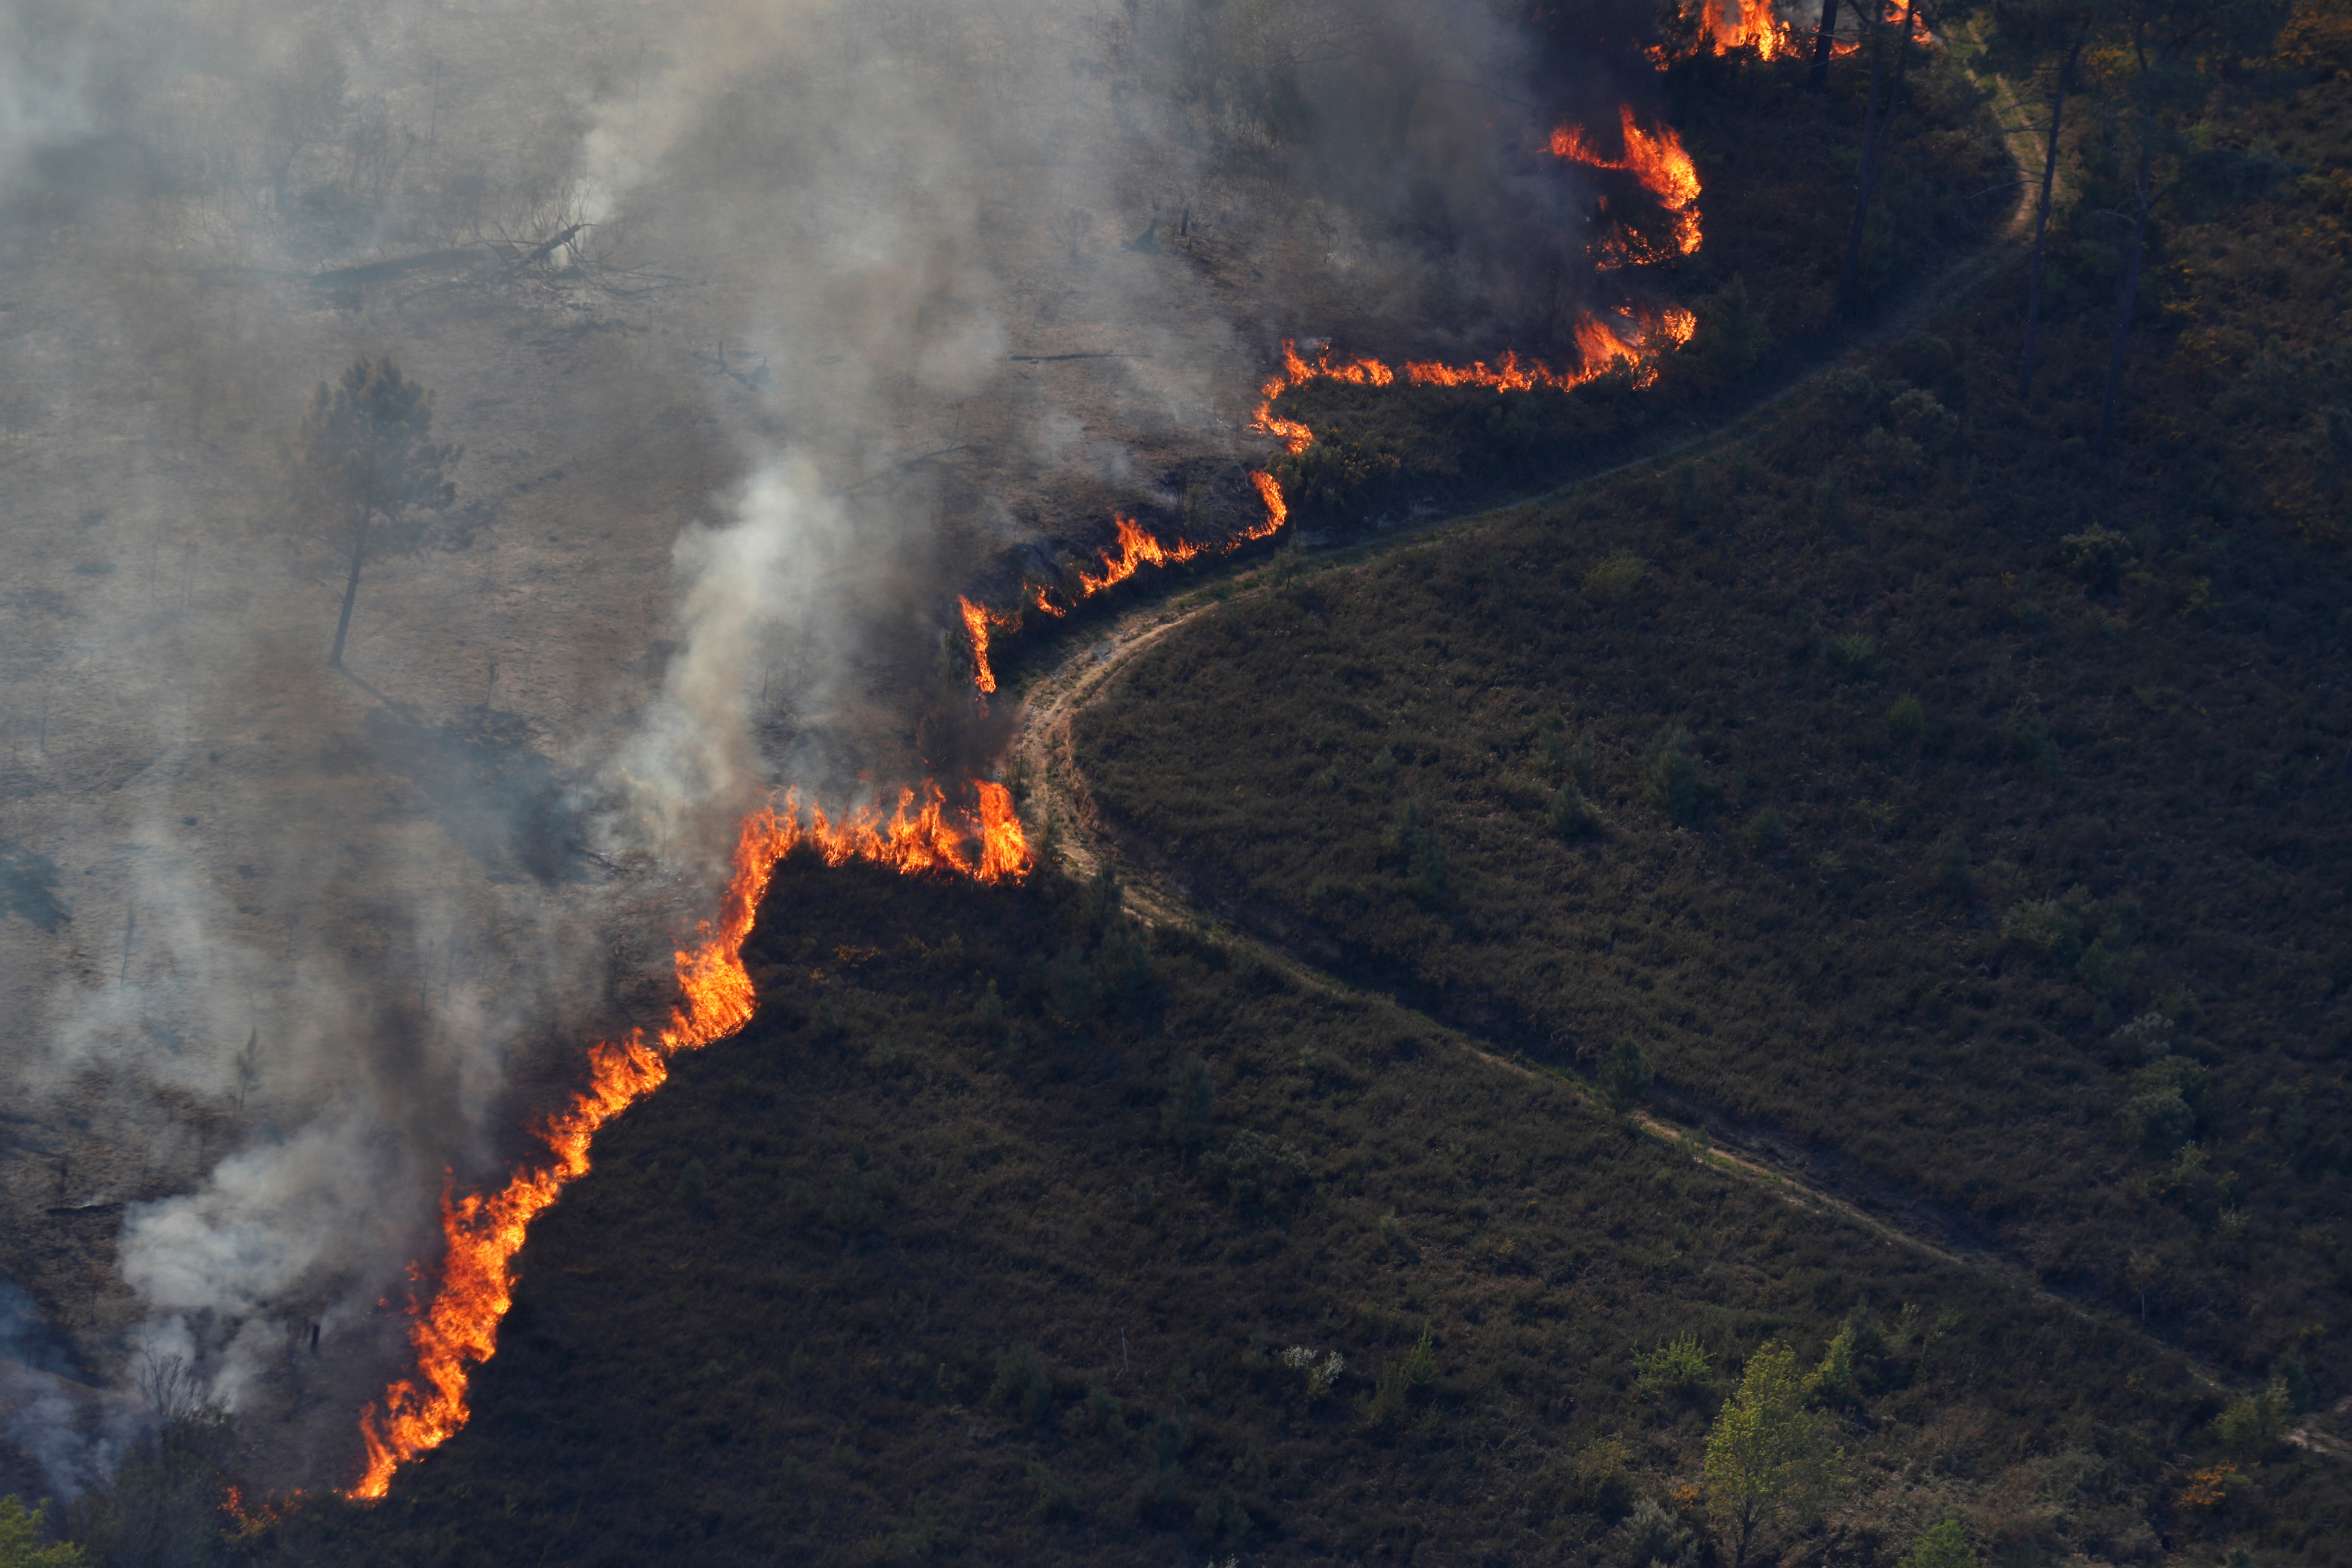fire: (234, 772, 1045, 1543), (929, 290, 1713, 724), (1522, 112, 1732, 271), (1619, 0, 1960, 84)
